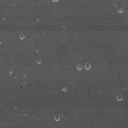corrosion: (53, 112, 61, 122), (83, 62, 91, 71), (116, 93, 124, 102), (116, 5, 124, 14), (76, 63, 83, 72), (18, 33, 25, 41), (35, 56, 42, 64), (61, 86, 68, 92)
